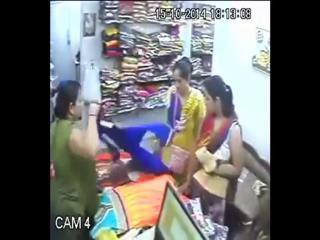Normal: (138, 56, 206, 182), (50, 76, 102, 240), (178, 76, 244, 201), (153, 181, 208, 240)
